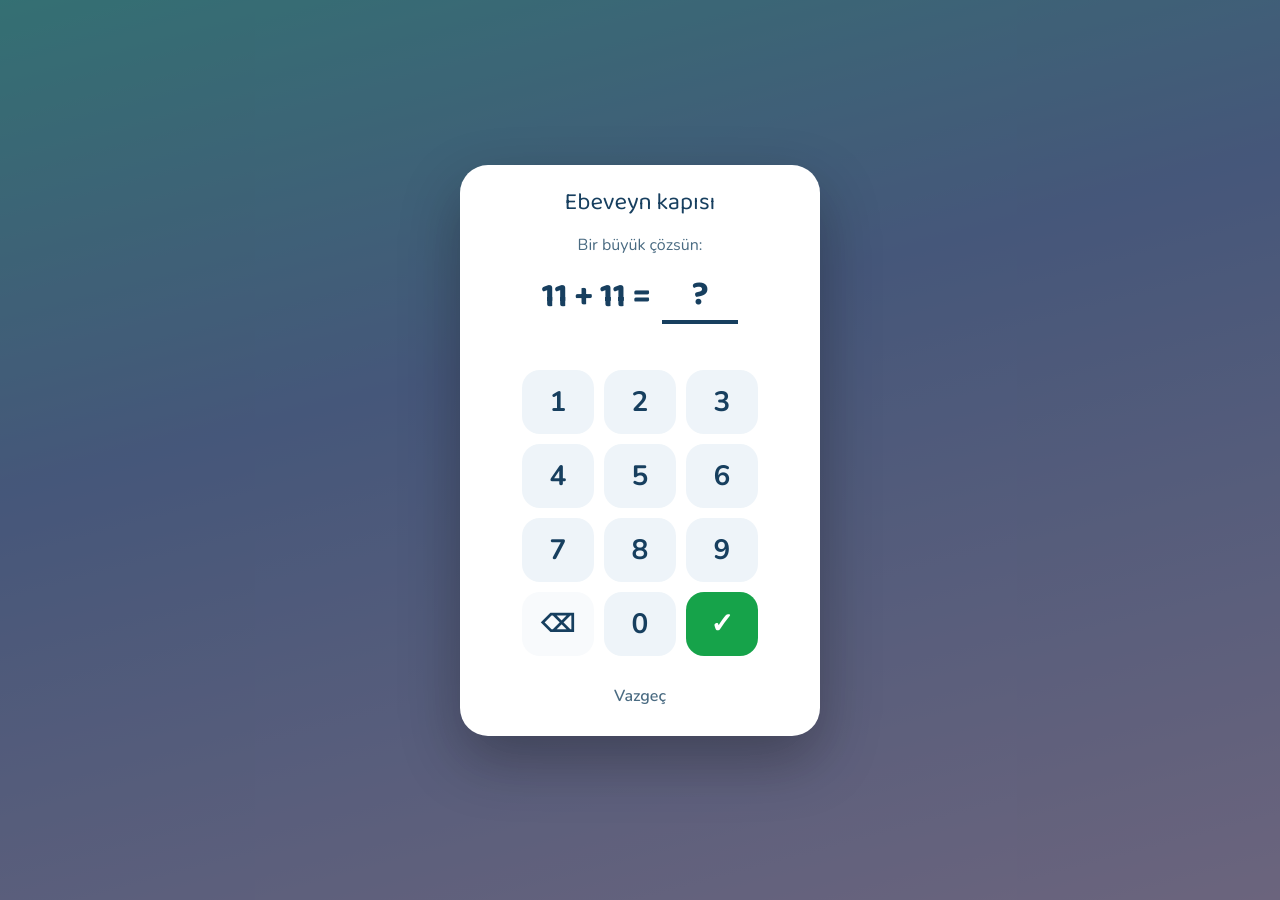
Test: ParentGate › PIN ayarlıysa aritmetikten sonra PIN ister
Click the button "2" at (640, 402), box [604,370,676,434]
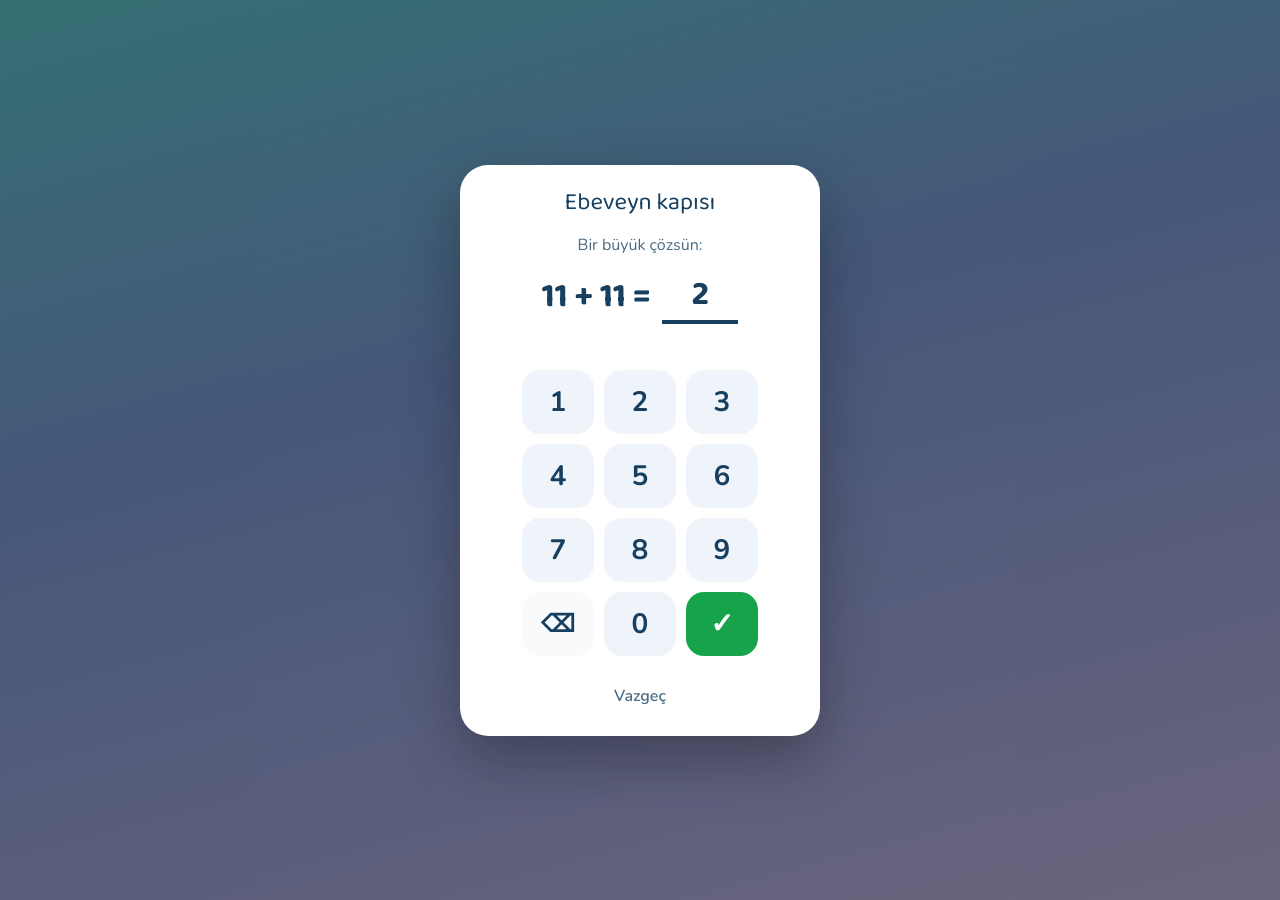
Click the button "2" at (640, 402), box [604,370,676,434]
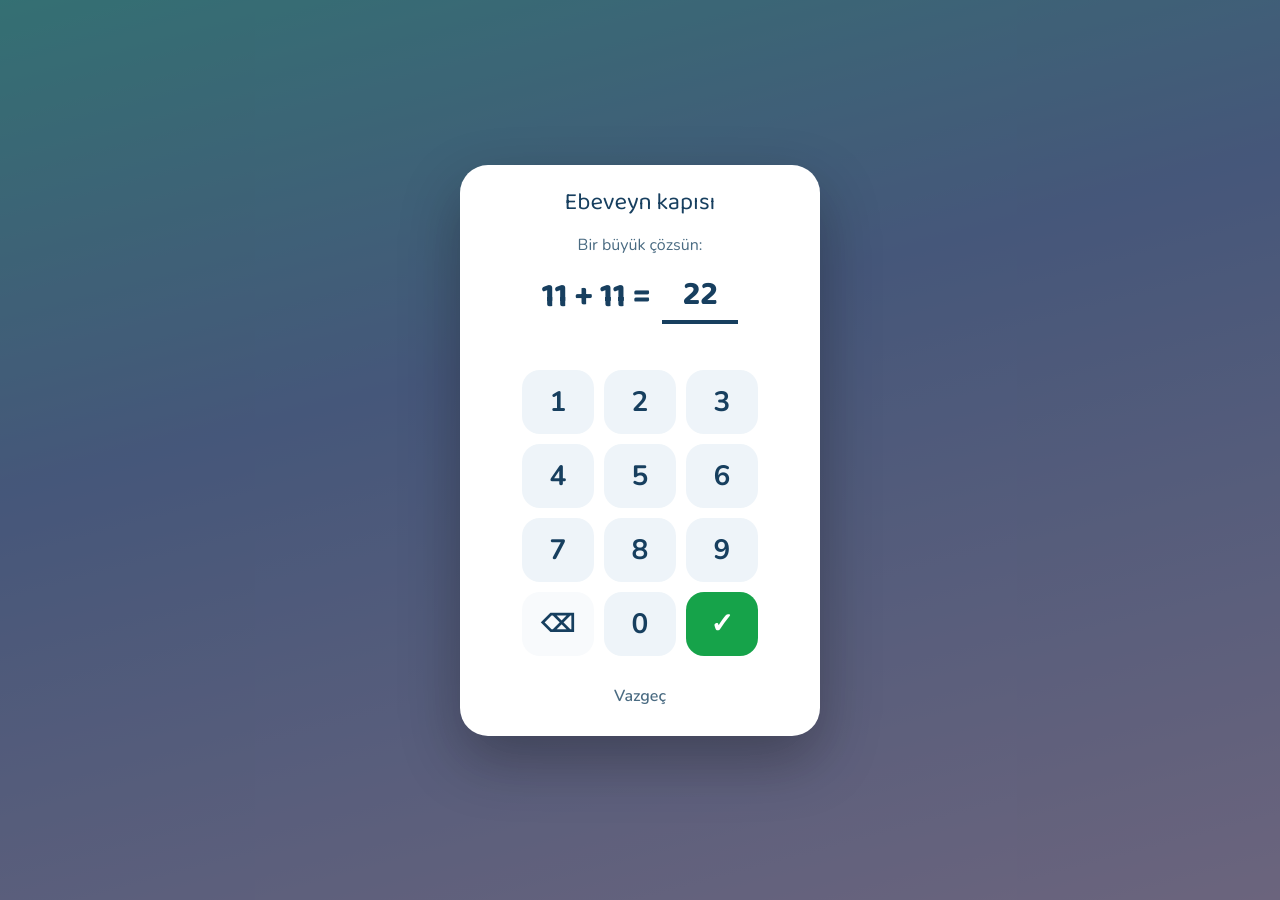
Click the button named "Tamam" at (722, 624), box [686,592,758,656]
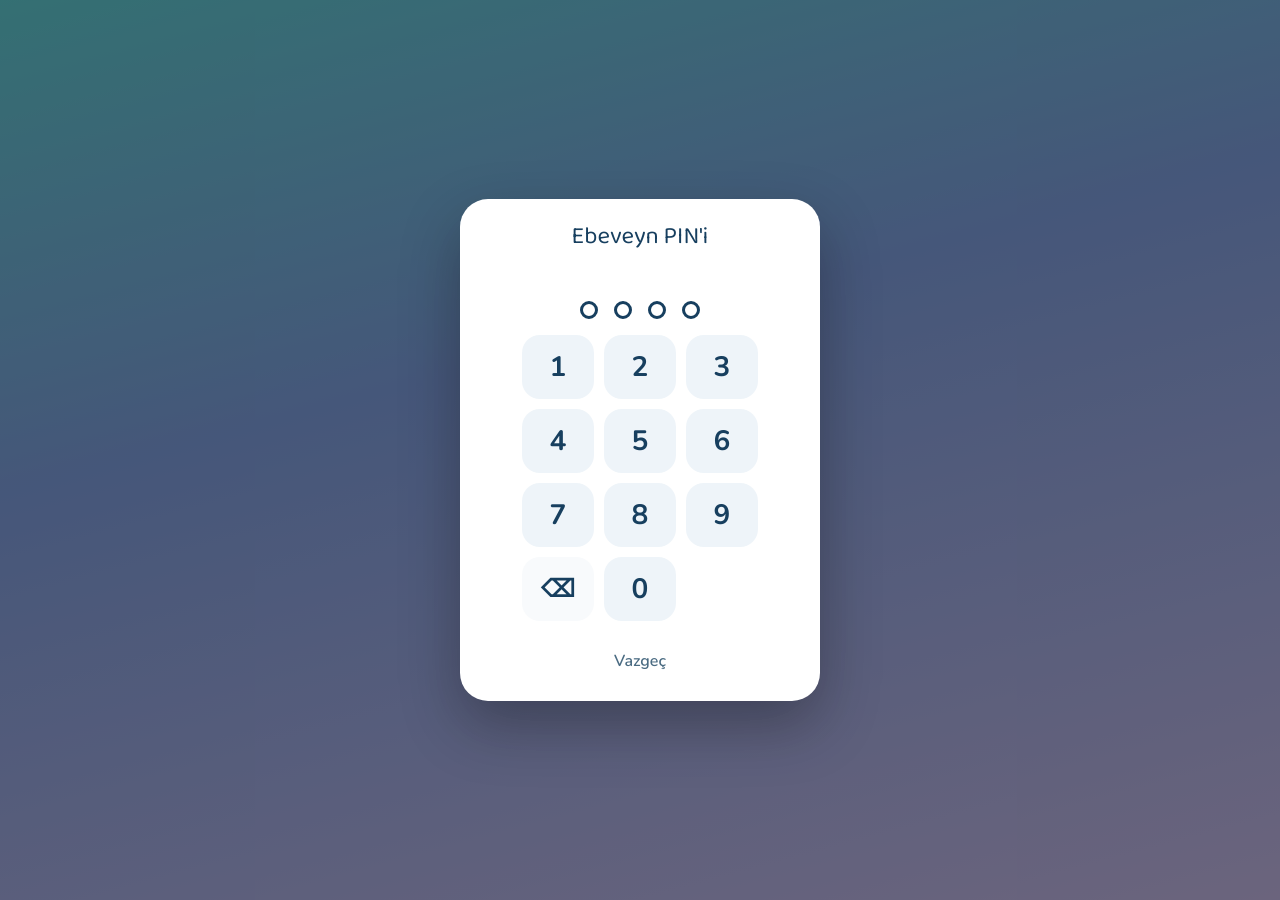
expect the heading "Ebeveyn PIN'i" is shown: met, box [572,219,708,255]
